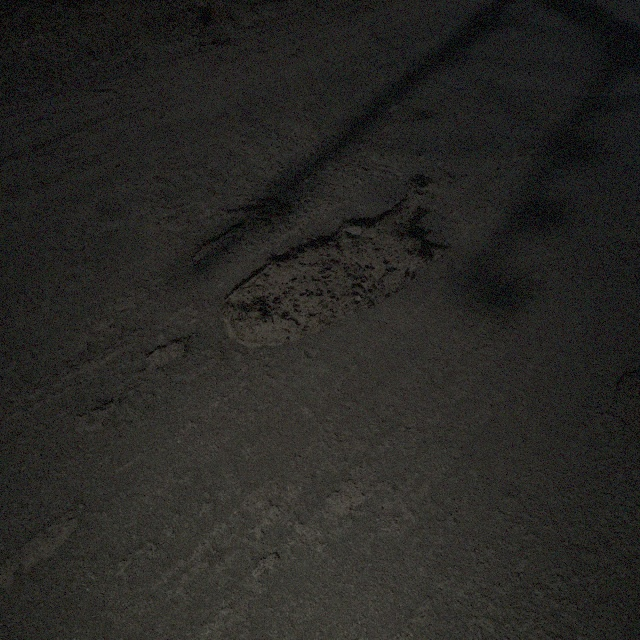pothole: (222, 169, 452, 352), (0, 498, 90, 588), (189, 194, 295, 266), (611, 364, 639, 444), (137, 334, 195, 372)
